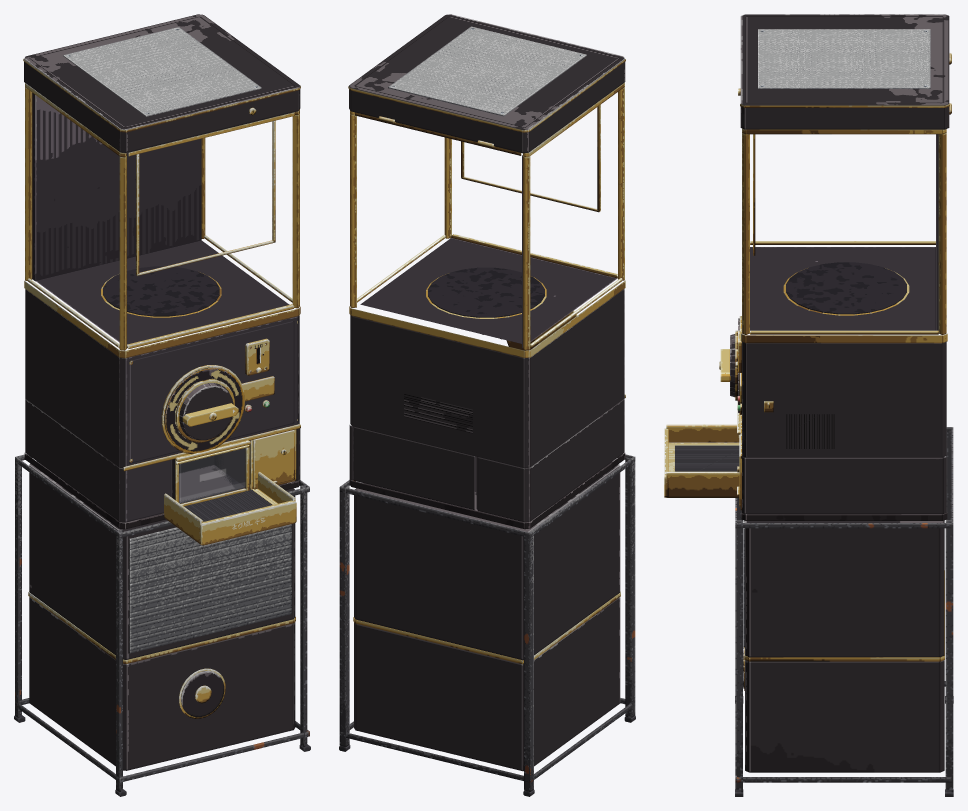
The model's file is deluxe.glb.
The picture shows the model from 3 angles, left to right: view 1: azimuth 30°, elevation 25°; view 2: azimuth 150°, elevation 25°; view 3: azimuth 270°, elevation 25°; orthographic projection. The views are drawn at different scales.
Visible parts, largest first — view 1: body, stand, lid, crank, flap, drawer; view 2: stand, body, lid; view 3: body, stand, lid, crank.
Part boxes in pixels (x1=…): body: x1=24, y1=83, x2=300, y2=545; stand: x1=14, y1=454, x2=310, y2=796; lid: x1=23, y1=14, x2=300, y2=153; crank: x1=175, y1=379, x2=238, y2=442; flap: x1=176, y1=445, x2=249, y2=503; drawer: x1=250, y1=430, x2=294, y2=489; stand: x1=339, y1=454, x2=635, y2=796; body: x1=349, y1=82, x2=625, y2=529; lid: x1=348, y1=14, x2=625, y2=153; body: x1=664, y1=128, x2=947, y2=520; stand: x1=735, y1=427, x2=953, y2=796; lid: x1=738, y1=14, x2=951, y2=129; crank: x1=719, y1=330, x2=737, y2=400.
Size of the model in its own units: 0.427 by 1.42 by 0.537.
9 materials, 9 textured.
